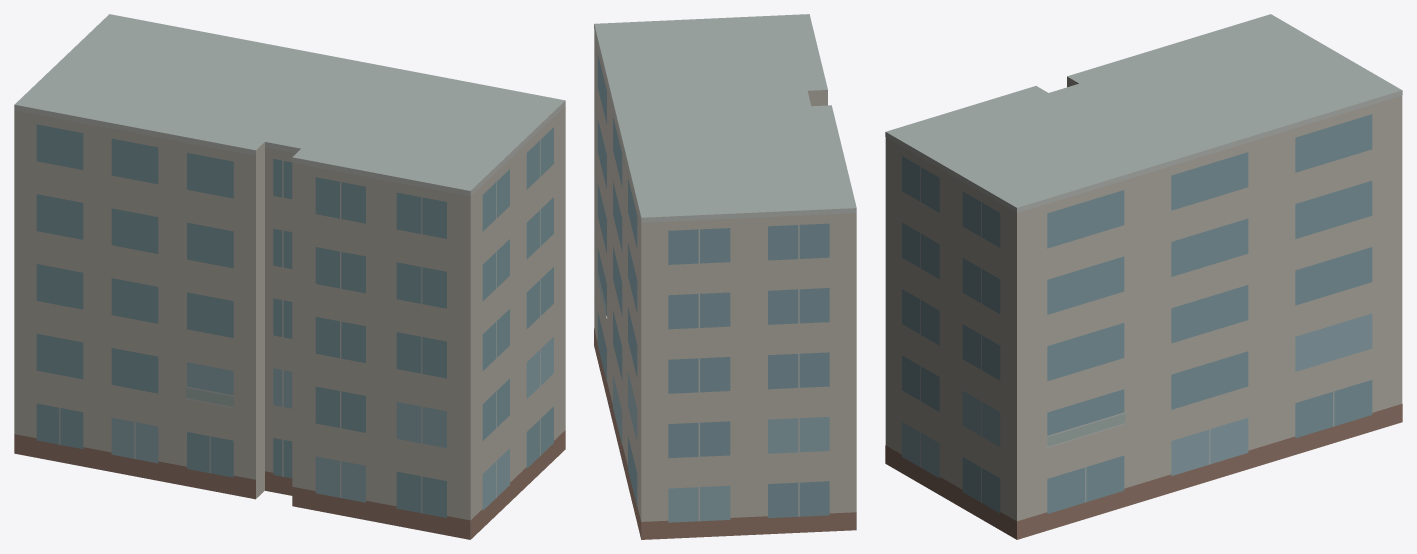
The model's file is survey-upis-33047422.glb.
3 renders of one model, left to right at view 1: azimuth 30°, elevation 25°; view 2: azimuth 150°, elevation 25°; view 3: azimuth 270°, elevation 25°, orthographic. The views are drawn at different scales.
Visible parts, largest first — view 1: survey-upis-33047422.tmp; view 2: survey-upis-33047422.tmp; view 3: survey-upis-33047422.tmp.
Part boxes in pixels (box(x1,y1,x2,y2)): survey-upis-33047422.tmp: box(14, 14, 565, 539); survey-upis-33047422.tmp: box(594, 14, 856, 539); survey-upis-33047422.tmp: box(885, 14, 1402, 539).
Size of the model in its own units: 19.31 by 15.4 by 21.74.
